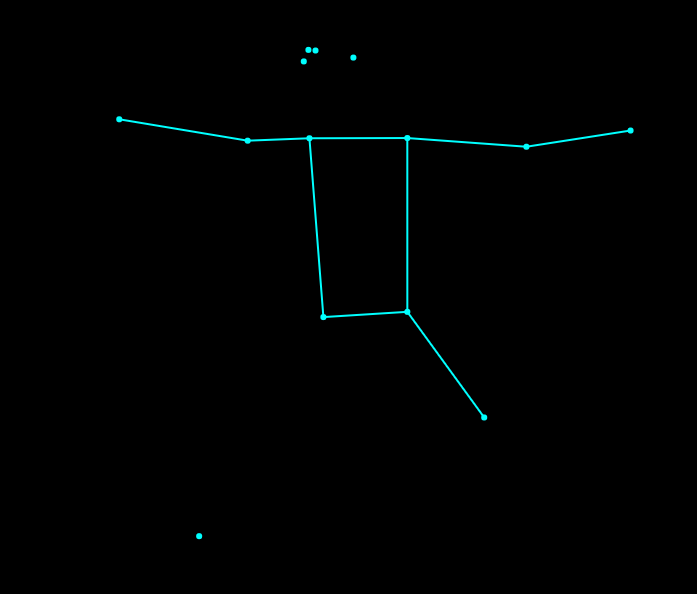warrior_2: (104, 37, 643, 549)
